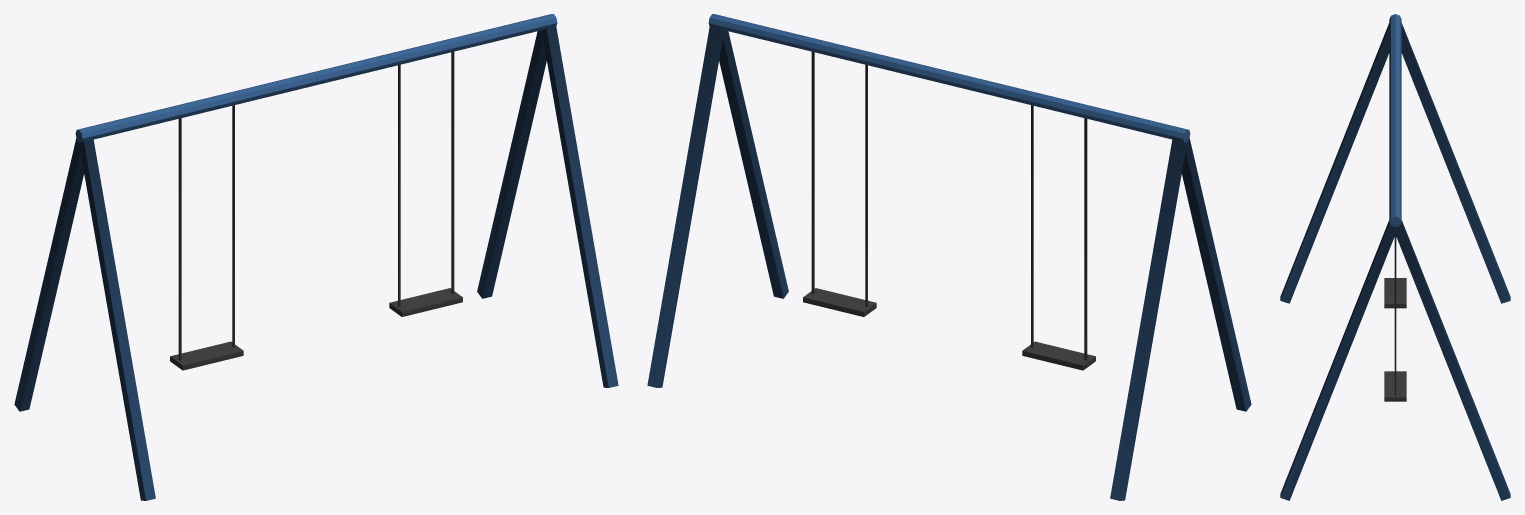
File: schaukel.glb
3 views of the same model, side by side, from view 1: azimuth 30°, elevation 25°; view 2: azimuth 150°, elevation 25°; view 3: azimuth 270°, elevation 25° (orthographic). The views are drawn at different scales.
Visible parts, largest first — view 1: lack; view 2: lack; view 3: lack.
Part boxes in pixels (<box>): lack: <box>14,14,618,500</box>; lack: <box>647,14,1251,500</box>; lack: <box>1280,14,1510,500</box>.
Size of the model in its own units: 3.9 by 2.56 by 1.88.
